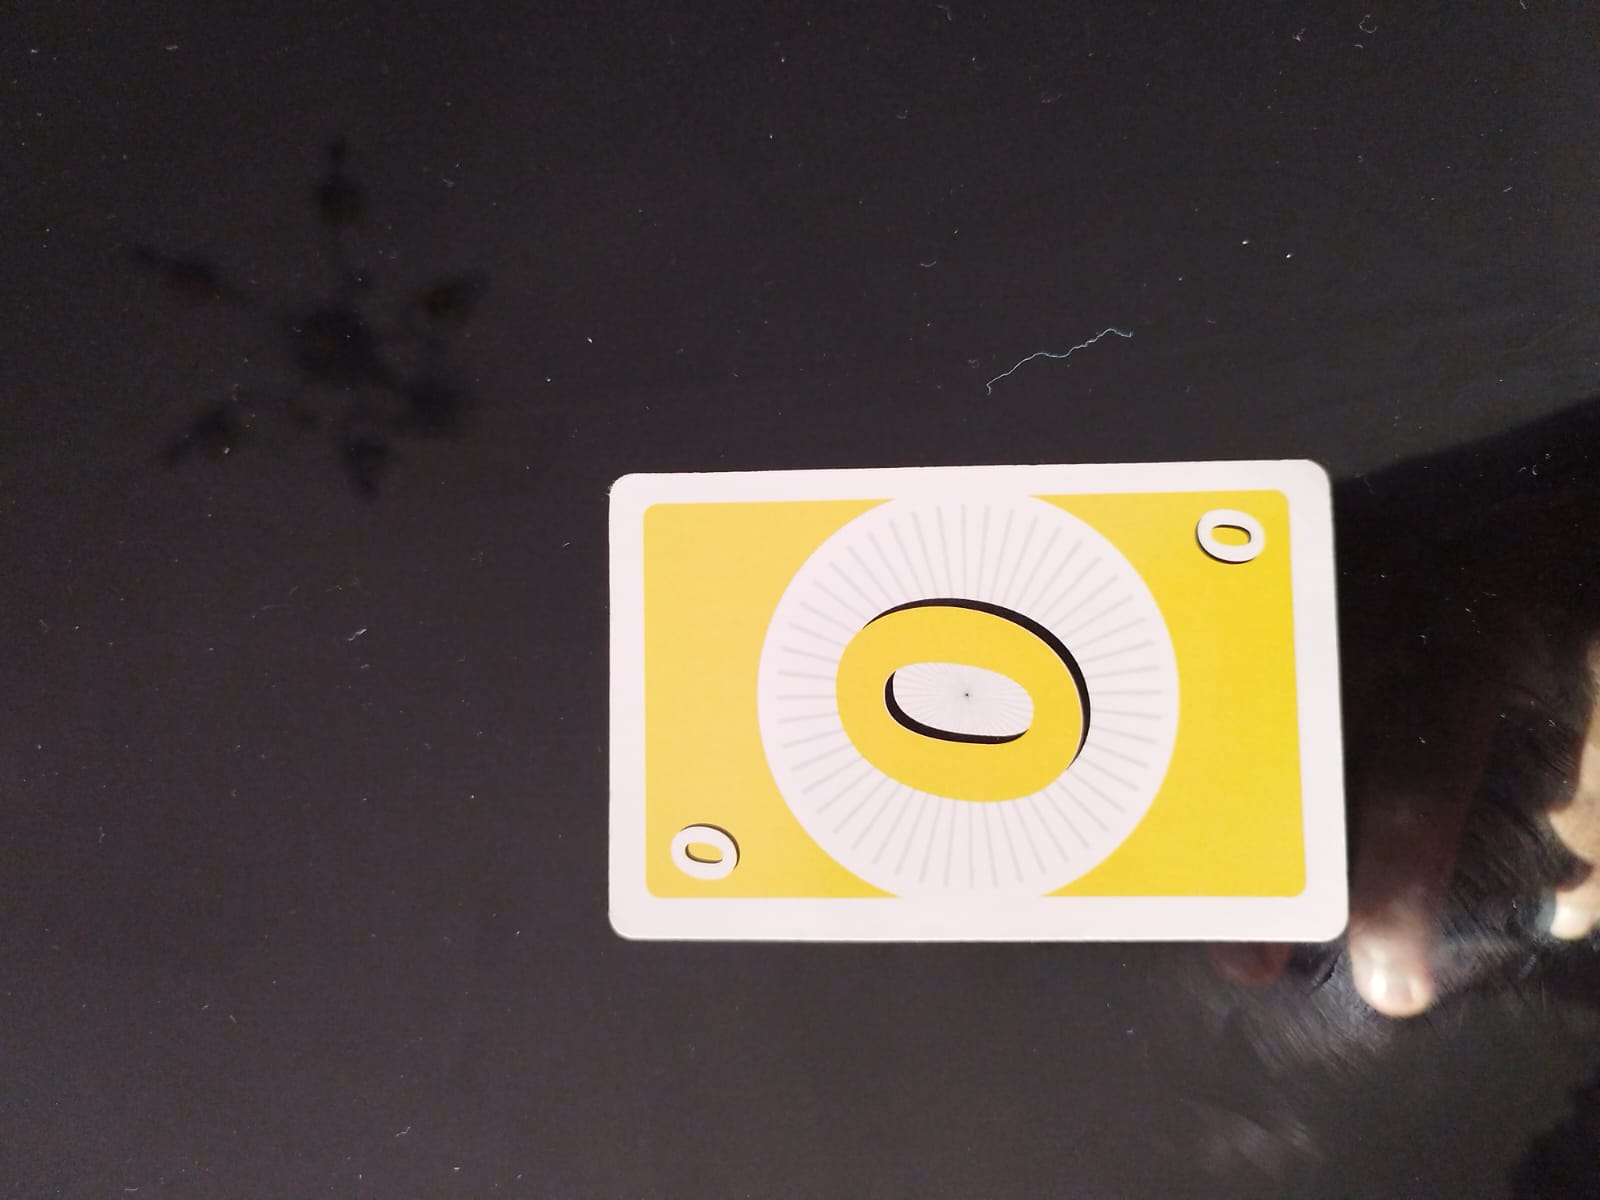9_yellow: (796, 586, 1124, 814), (1173, 505, 1283, 577), (660, 814, 755, 892)
